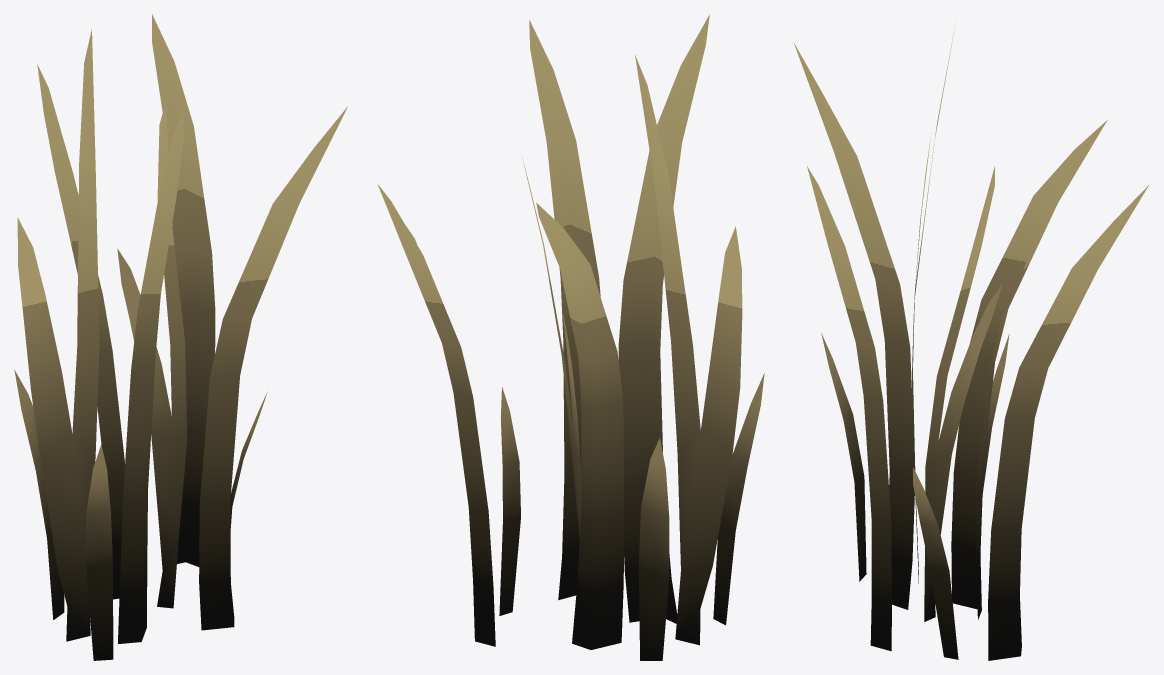
Rendered from dry-fiber-low-tuft.glb.
3 renders of one model, left to right at view 1: azimuth 30°, elevation 25°; view 2: azimuth 150°, elevation 25°; view 3: azimuth 270°, elevation 25°, orthographic. The views are drawn at different scales.
Visible parts, largest first — view 1: dry-fiber-low-tuft runtime mesh; view 2: dry-fiber-low-tuft runtime mesh; view 3: dry-fiber-low-tuft runtime mesh.
Boxes of the visible parts, x1,y1,x2,y2 form: dry-fiber-low-tuft runtime mesh: (14, 14, 347, 660); dry-fiber-low-tuft runtime mesh: (377, 14, 764, 660); dry-fiber-low-tuft runtime mesh: (793, 27, 1149, 660).
Size of the model in its own units: 0.2011 by 0.42 by 0.2321.
1 material, 1 textured.
